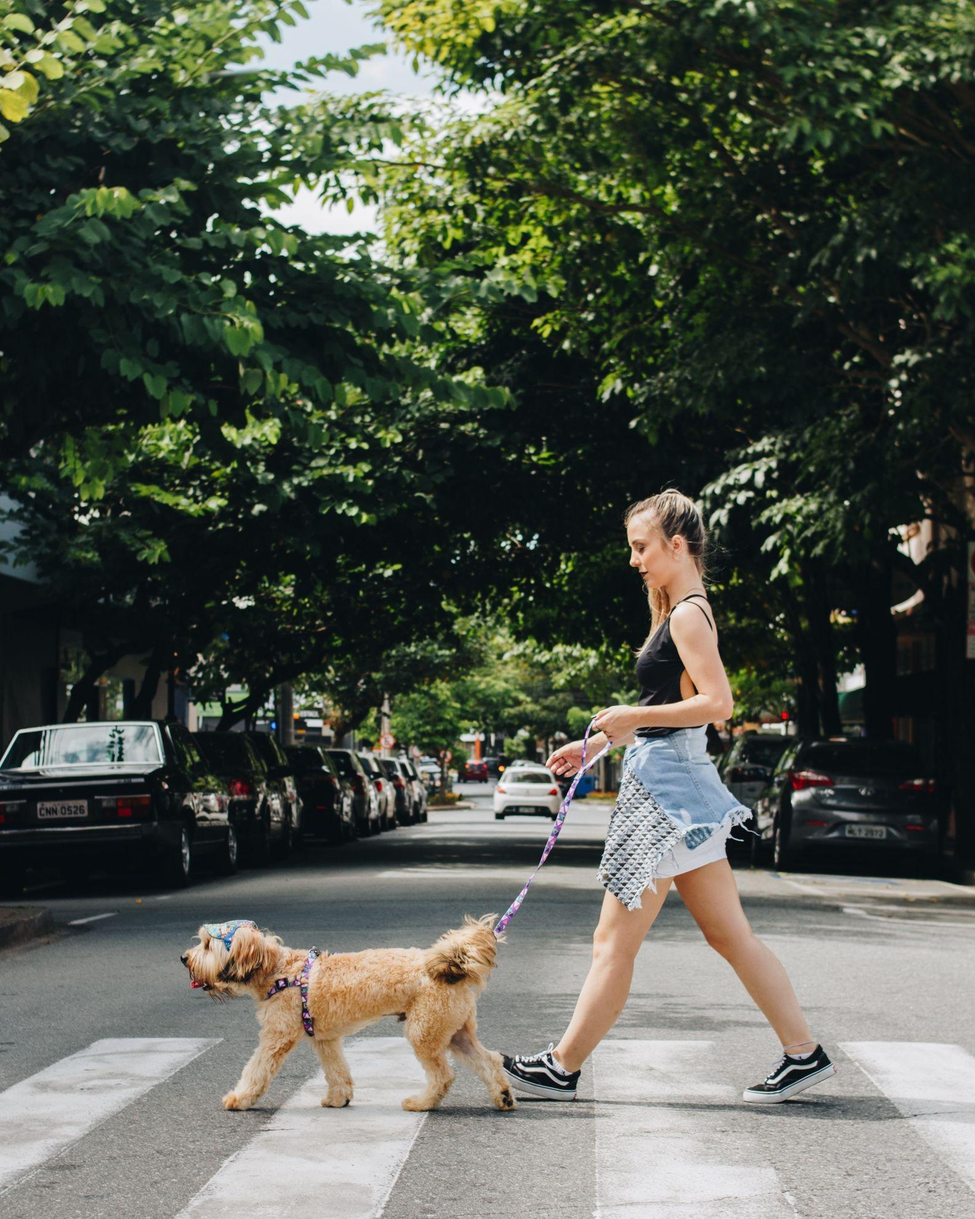adult_dog: (177, 914, 519, 1114)
non-dog: (499, 486, 838, 1106)
